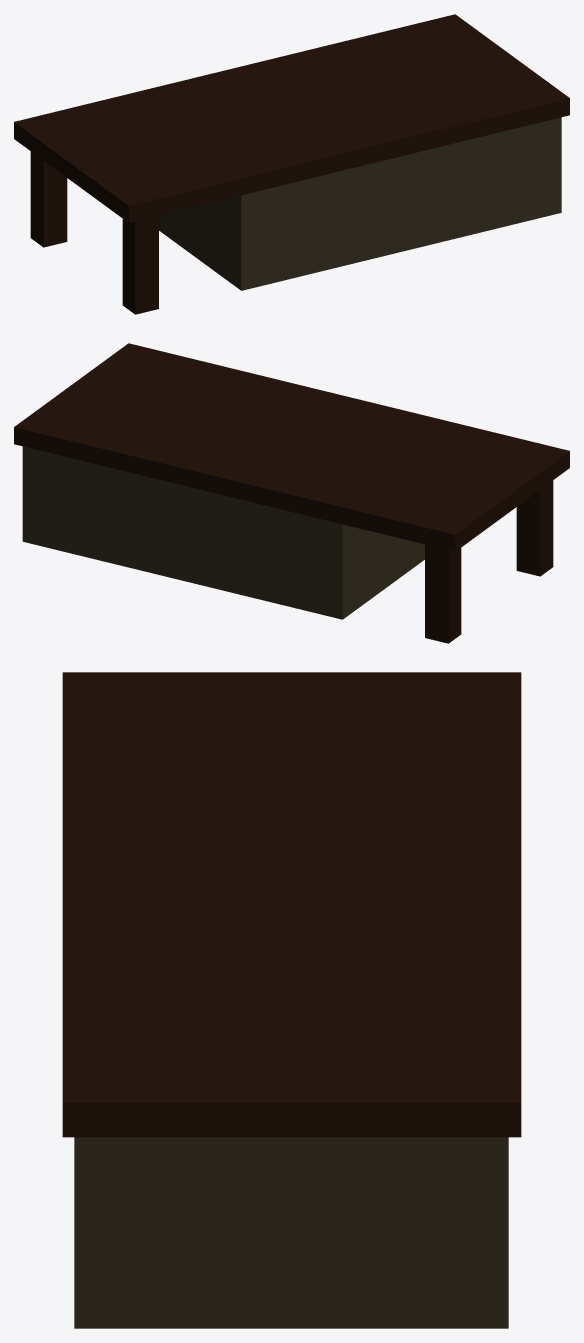
Rendered from Island proxy.FBX.
The picture shows the model from 3 angles, top to bottom: view 1: azimuth 30°, elevation 25°; view 2: azimuth 150°, elevation 25°; view 3: azimuth 270°, elevation 25°; orthographic projection. The views are drawn at different scales.
Visible parts, largest first — view 1: Box001; view 2: Box001; view 3: Box001.
Part boxes in pixels (box(x1,y1,x2,y2)): Box001: box(14, 14, 569, 314); Box001: box(14, 343, 569, 643); Box001: box(62, 672, 521, 1328).
Bounding box in the file's own units: 400 × 100 × 180.
